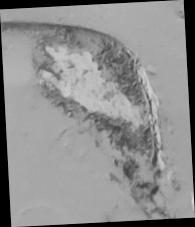paint-off: (0, 1, 194, 227)
